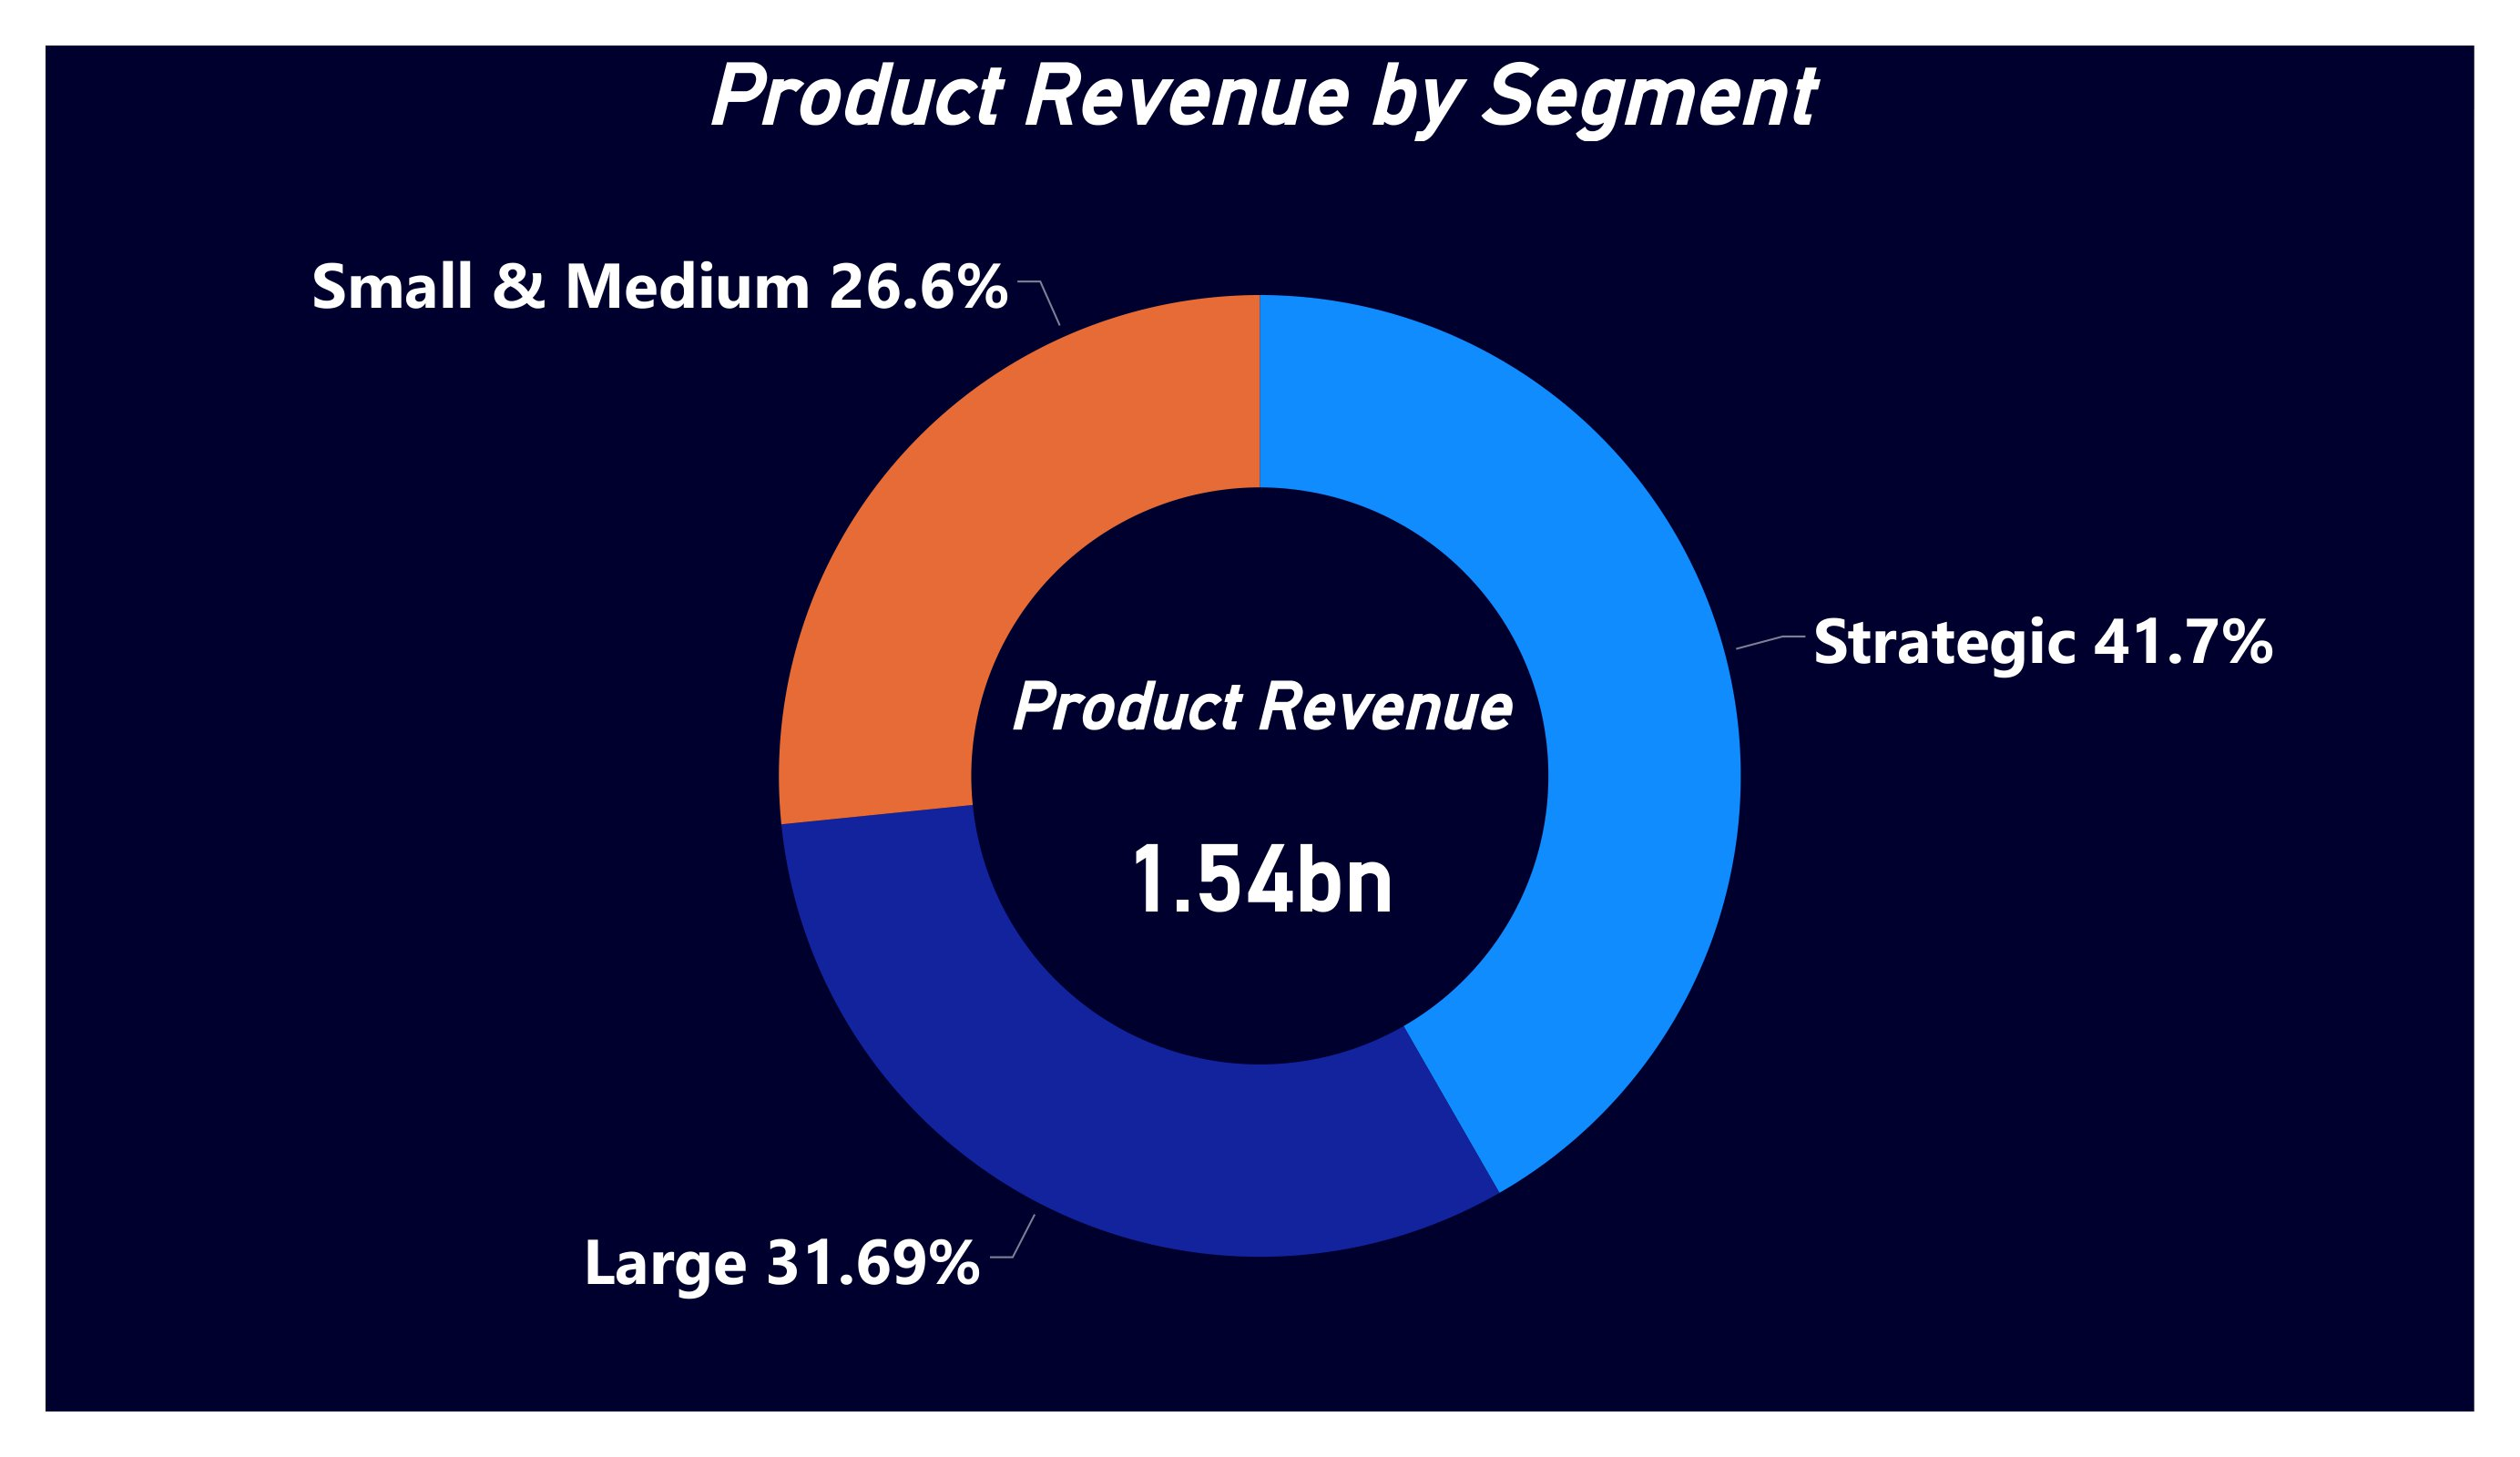

Layout of this report page (visuals, bound fields, positions):
{"tool":"powerbi","page":{"name":"Donut","canvas":[1280,720],"ordinal":2},"visuals":[{"type":"donutChart","title":"Product Revenue by Segment","fields":{"Category":["Account.Segment"],"Y":["Sum(Fact.ProductRevenue)"]},"box":[0,0,1280,720],"z":0},{"type":"card","title":"Product Revenue ","fields":{"Values":["Sum(Fact.ProductRevenue)"]},"box":[461.7,328.3,356.7,170],"z":1000}]}

Visuals, with their boxes in screenshot pixels (x1, y1, x2, y2):
"Product Revenue by Segment" donutChart: [46, 46, 2474, 1411]
"Product Revenue " card: [922, 668, 1598, 991]
